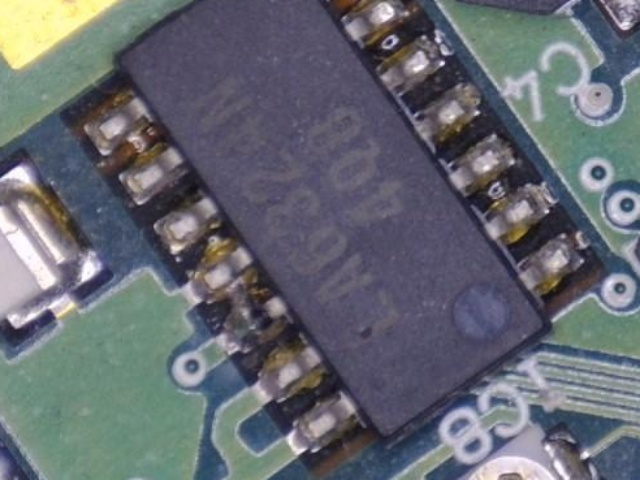pcb_defect: (205, 244, 289, 354)
